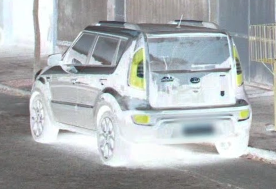car: (28, 22, 252, 165)
